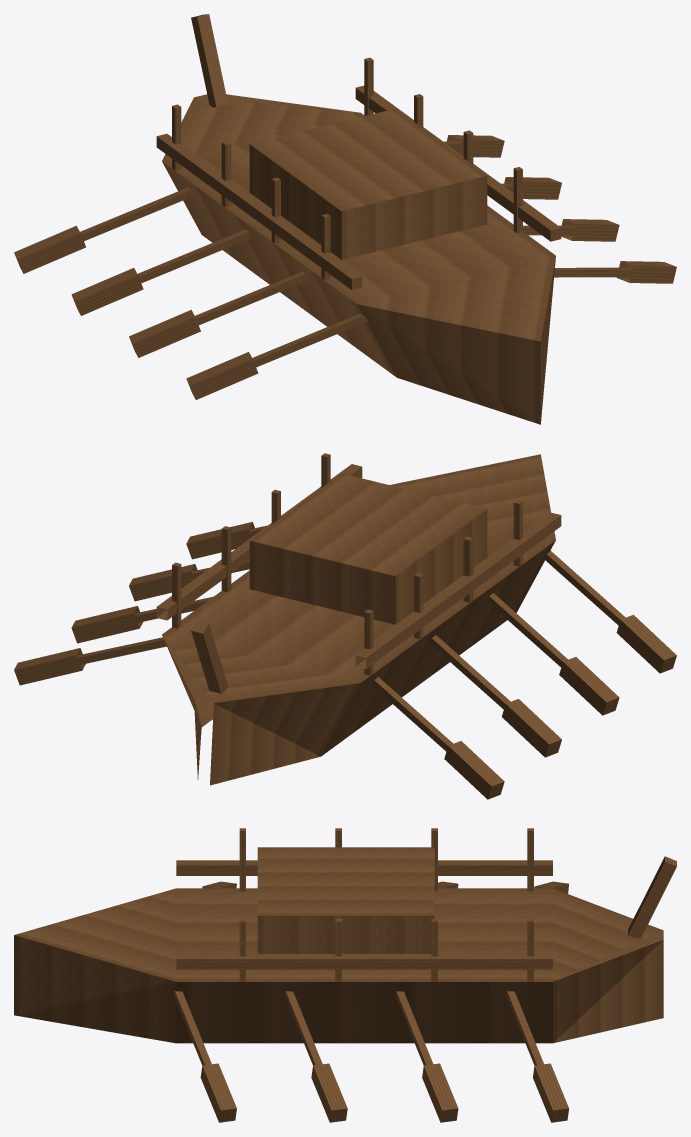
The model's file is unit-BOAT-lod0.glb.
3 views of the same model, one above another, from view 1: azimuth 30°, elevation 25°; view 2: azimuth 150°, elevation 25°; view 3: azimuth 270°, elevation 25° (orthographic). The views are drawn at different scales.
Size of the model in its own units: 0.7343 by 0.2337 by 0.8982.
1 material, 1 textured.
